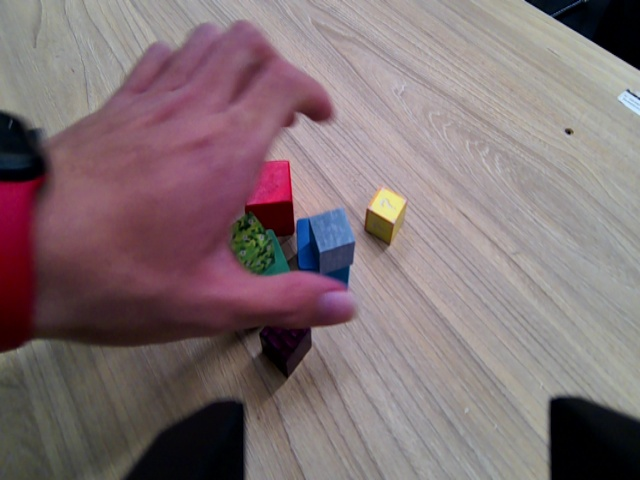lucky: (361, 182, 412, 249)
stone: (304, 203, 360, 280)
